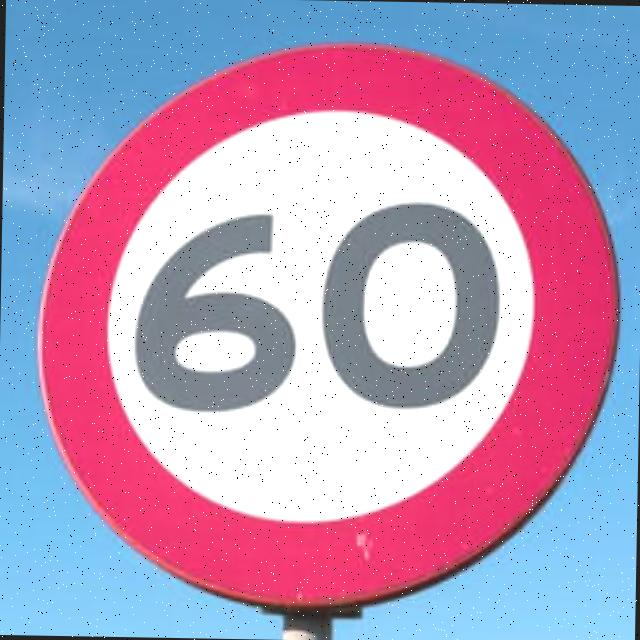Ograniczenie predkosci do 60: (29, 36, 626, 620)
